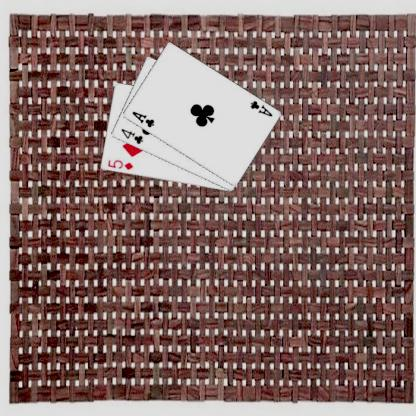4C: (118, 126, 144, 146)
5D: (105, 158, 134, 171)
AC: (248, 98, 274, 118), (130, 109, 155, 129)
